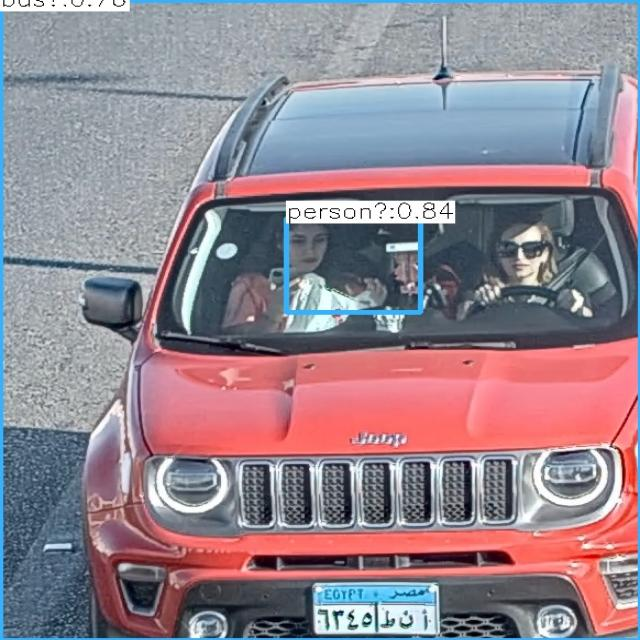windshield: (156, 196, 627, 334)
